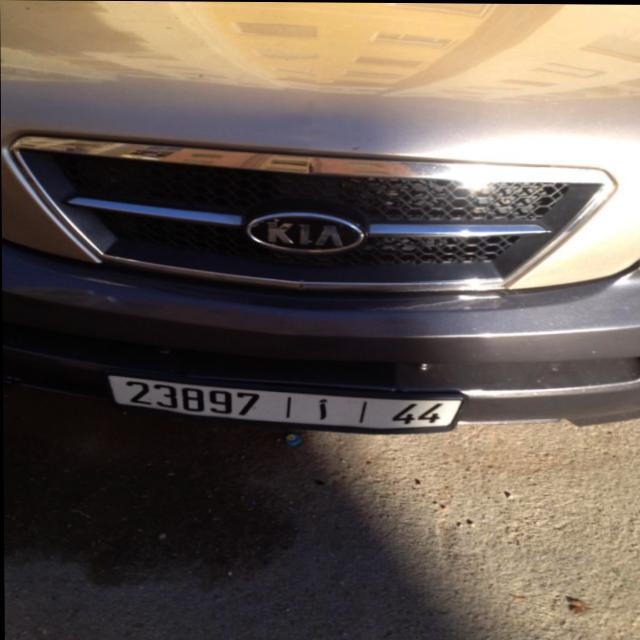License-Plate: (107, 374, 462, 432)
